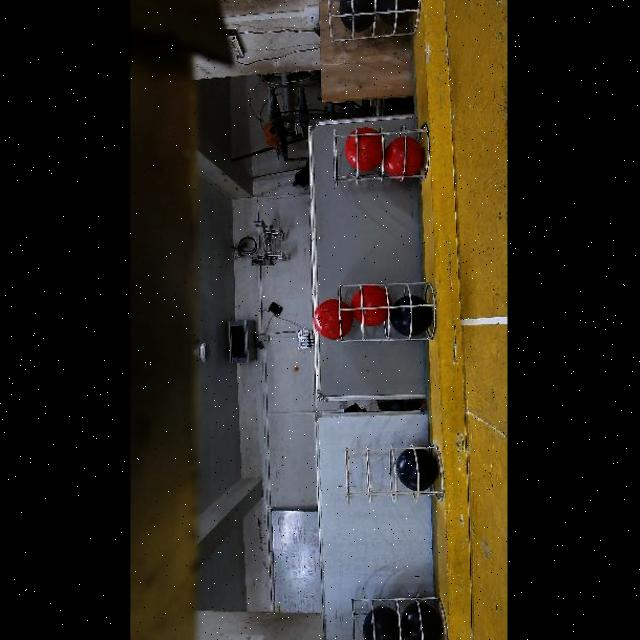P: (396, 449, 438, 490), (389, 296, 431, 336), (400, 602, 442, 640), (362, 607, 399, 640), (339, 0, 373, 31), (376, 0, 414, 25)
R: (344, 127, 381, 170), (384, 138, 424, 177), (314, 299, 352, 340), (351, 286, 387, 327)
S: (330, 279, 440, 347), (339, 436, 446, 504), (320, 120, 430, 183), (350, 592, 442, 640), (325, 1, 419, 44)
